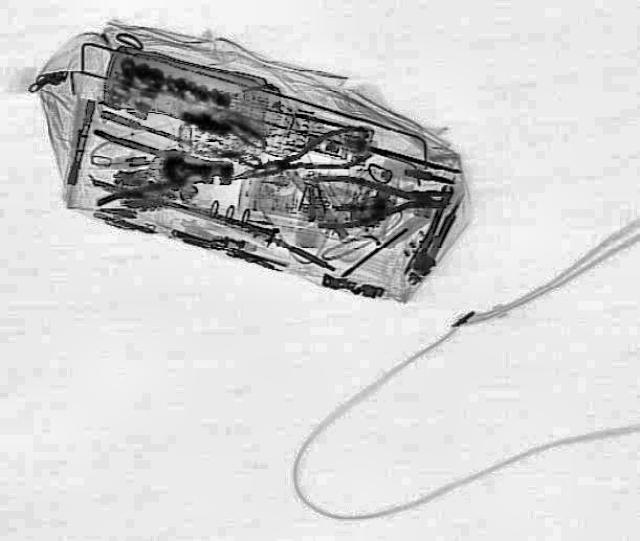Pliers: (84, 128, 234, 212), (224, 120, 378, 194), (311, 174, 449, 226)
